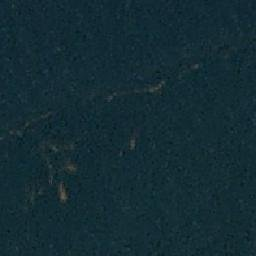debris: (148, 81, 166, 92), (62, 161, 77, 174), (57, 183, 66, 201), (106, 91, 114, 105), (125, 88, 146, 93), (48, 144, 56, 157), (128, 136, 134, 148), (192, 62, 200, 69)
